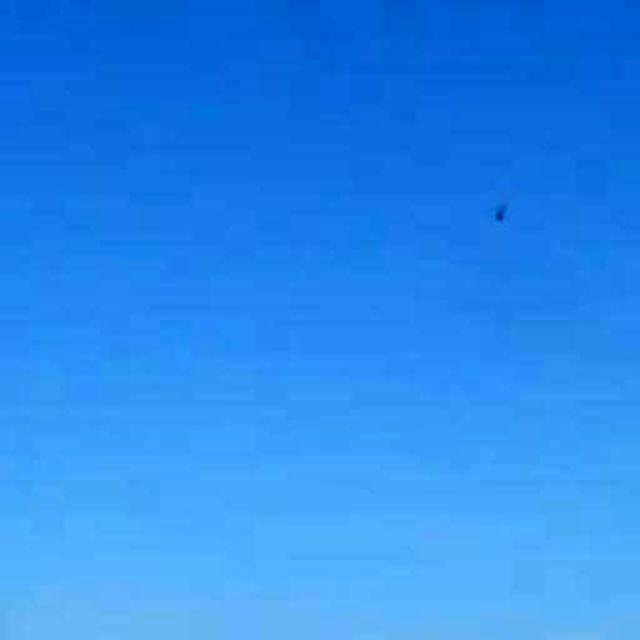drone: (468, 172, 531, 244)
